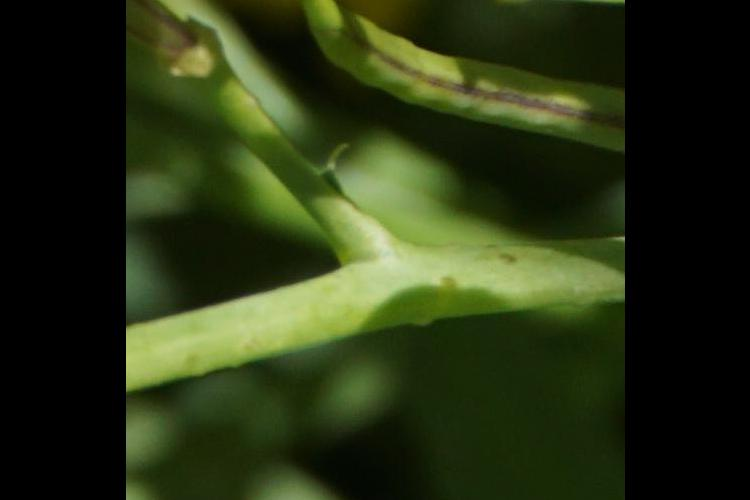pod: (280, 1, 595, 136), (320, 1, 607, 33), (131, 1, 225, 88)
